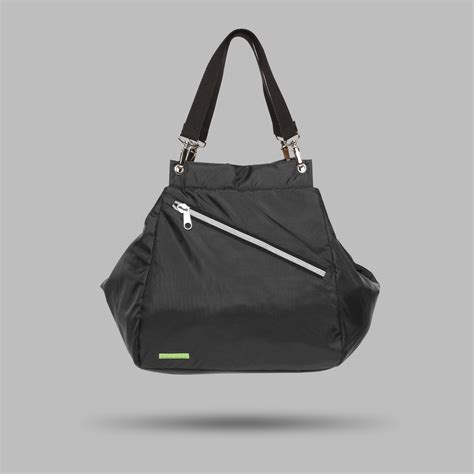nylon: (99, 164, 380, 372)
